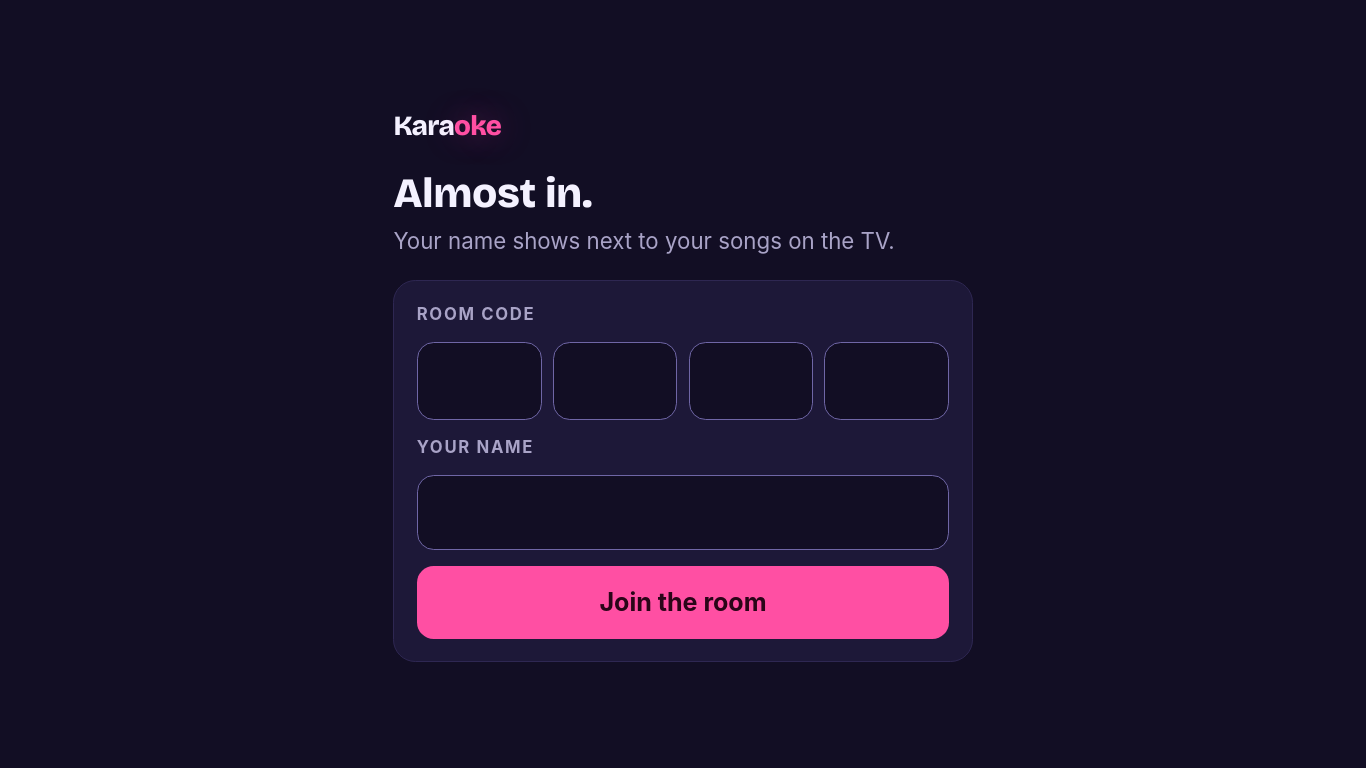
Test: Join › cannot add twice while the first add is on its way
Later steps or results of the test are not shown.
Type "ABCD" into the field labelled "Room code".
click(750, 381); type("ABCD")  # box 417,342 -> 1082,420
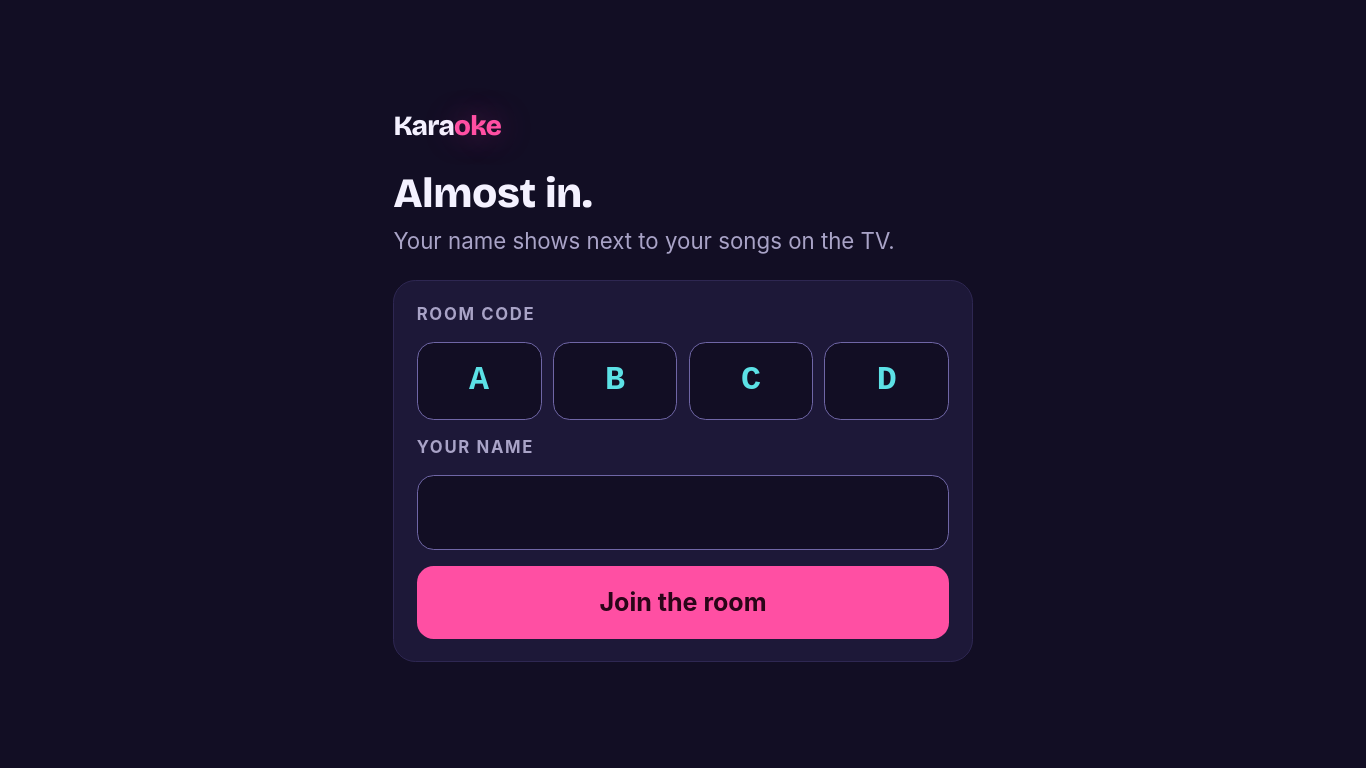
Type "Sam" into the field labelled "Your name".
click(683, 512); type("Sam")  # box 417,475 -> 949,550
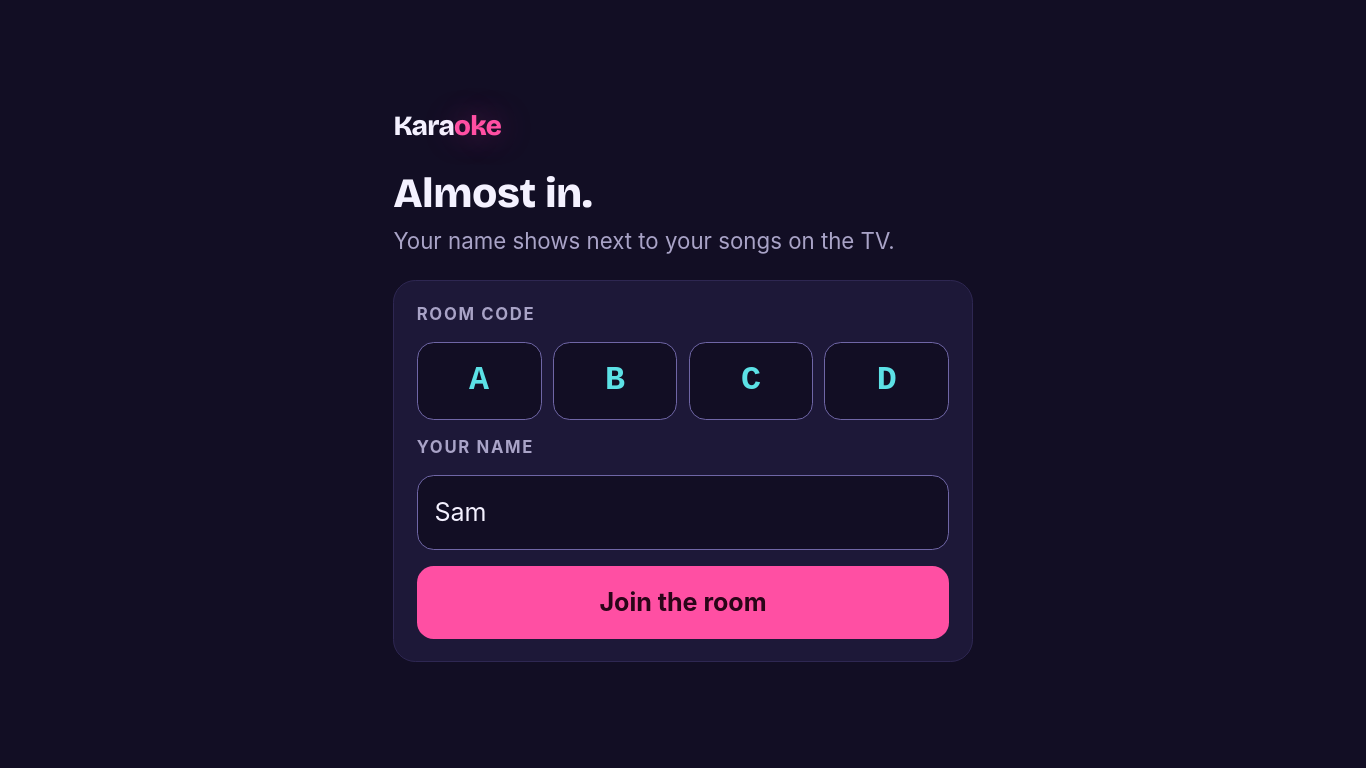
Click the button "Join the room".
click(683, 603)  # box 417,566 -> 949,639
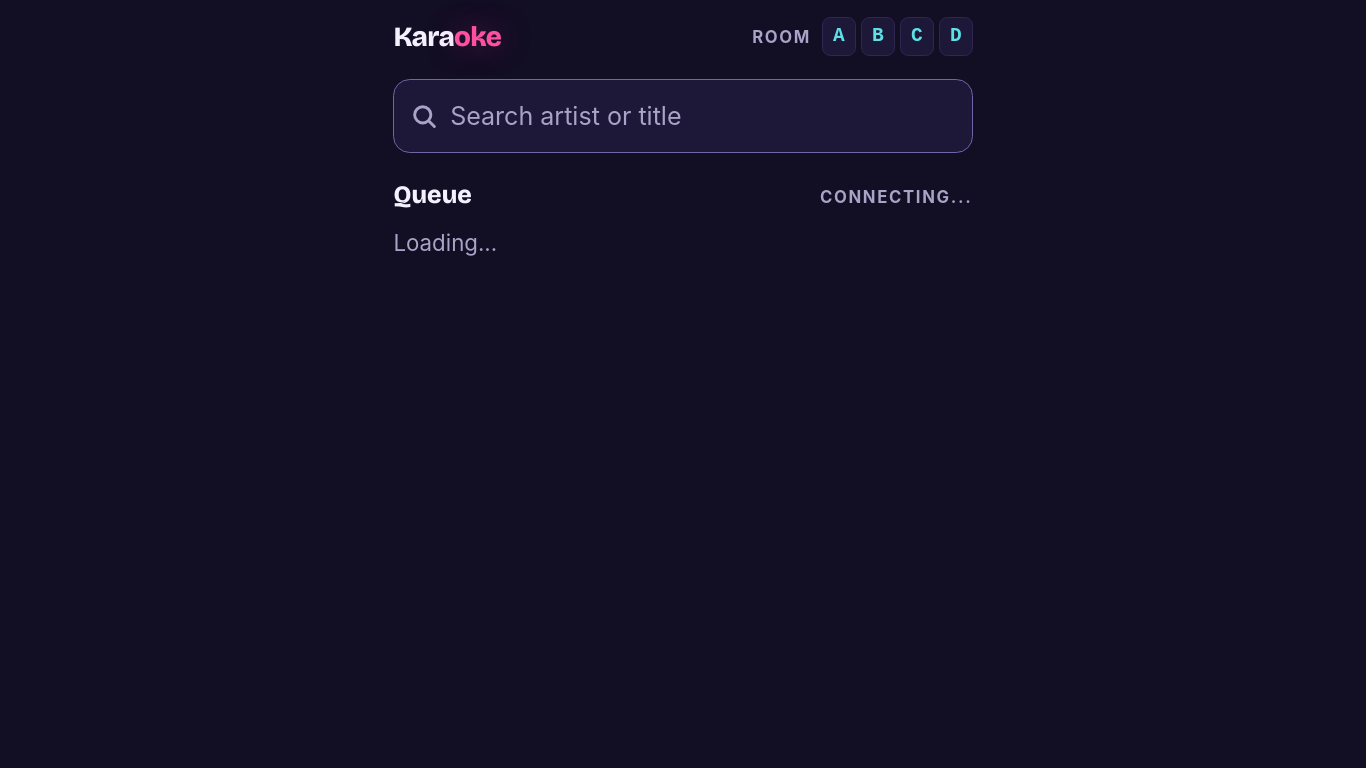
Type "queen" into the search field named "Search songs".
click(683, 116); type("queen")  # box 394,79 -> 973,153
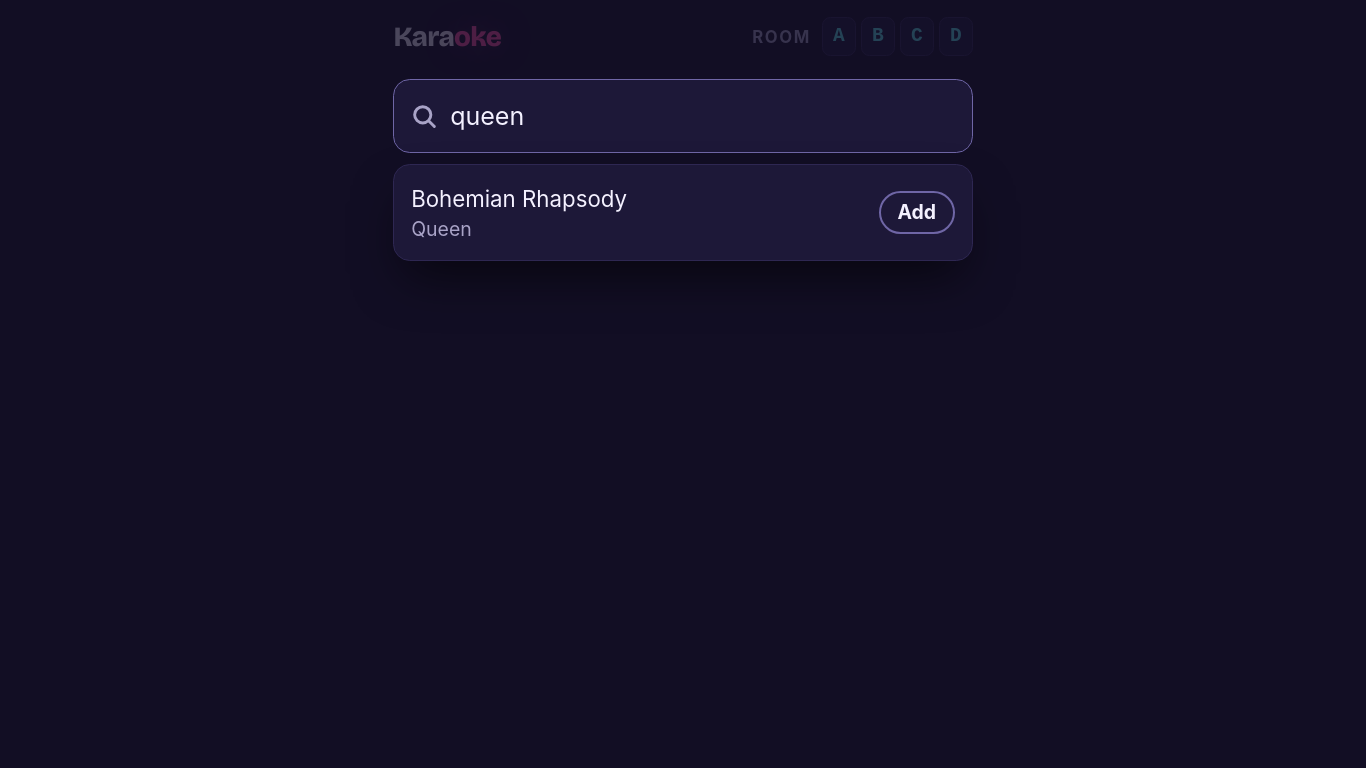
Click the button "Bohemian Rhapsody Queen Add".
click(519, 199)  # box 394,165 -> 972,260
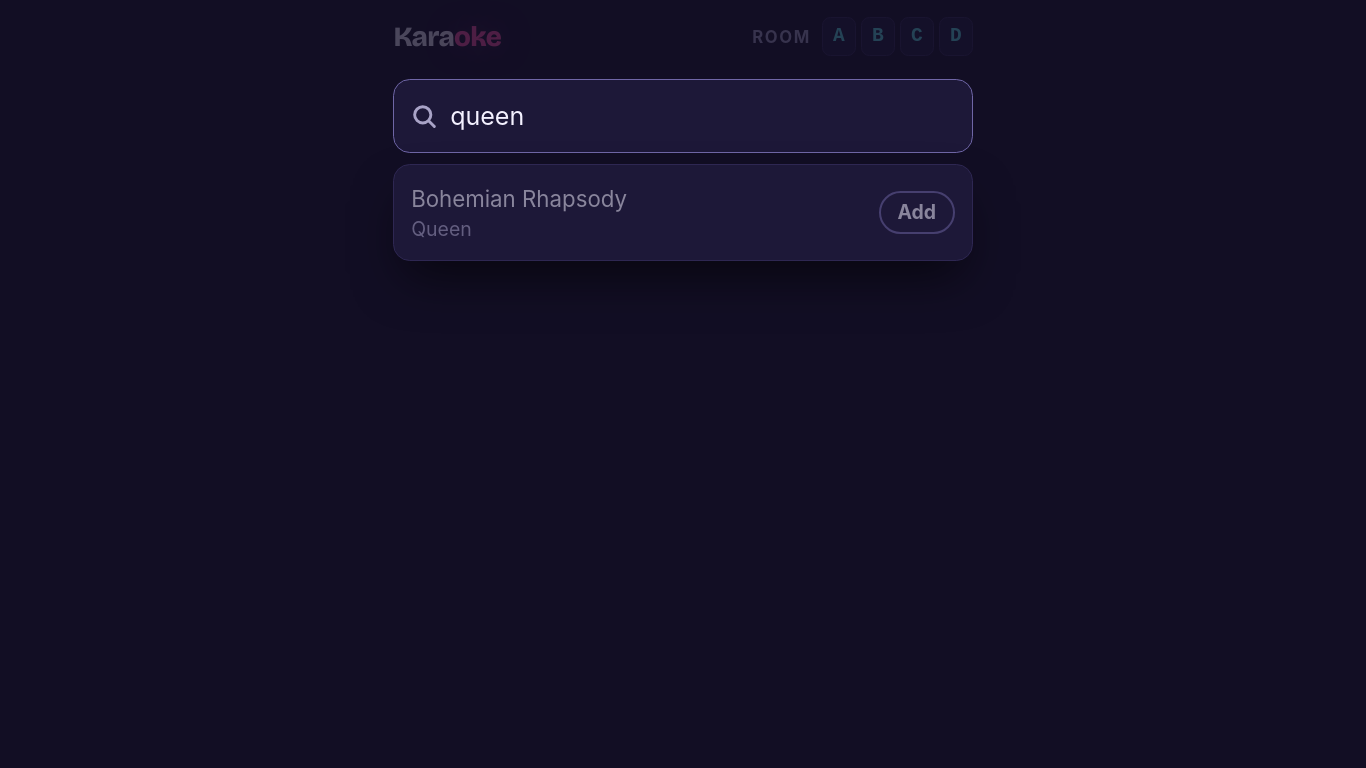
Now the button "Bohemian Rhapsody Queen Add" is disabled, box 394,165 -> 972,260
